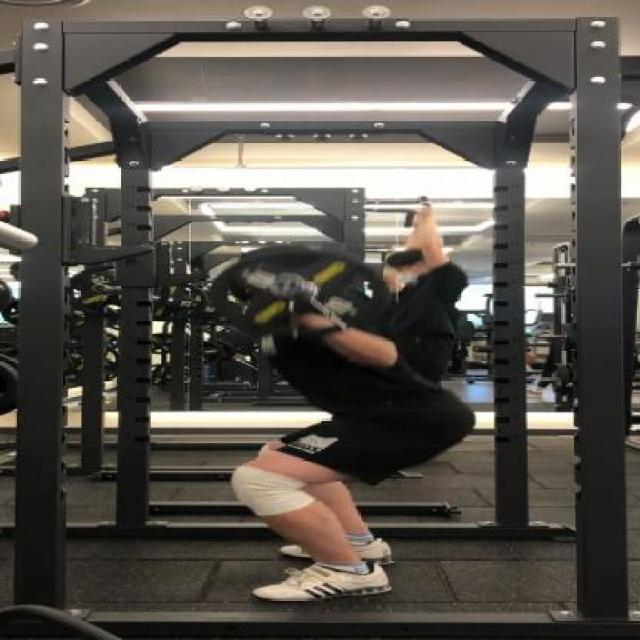Barbell: (256, 270, 316, 299)
